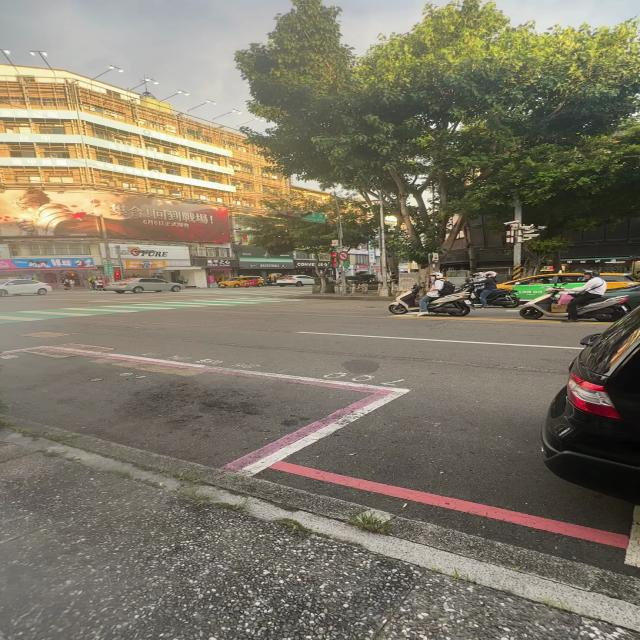car: (540, 309, 640, 504), (499, 272, 582, 301), (106, 278, 185, 294), (0, 279, 53, 296), (600, 272, 638, 289), (218, 276, 265, 288), (276, 275, 315, 286)
crosswalk: (0, 296, 324, 325), (162, 290, 312, 296)
motocycle: (518, 288, 567, 319), (578, 295, 629, 321), (428, 292, 472, 316), (388, 290, 417, 315), (488, 289, 521, 308)
